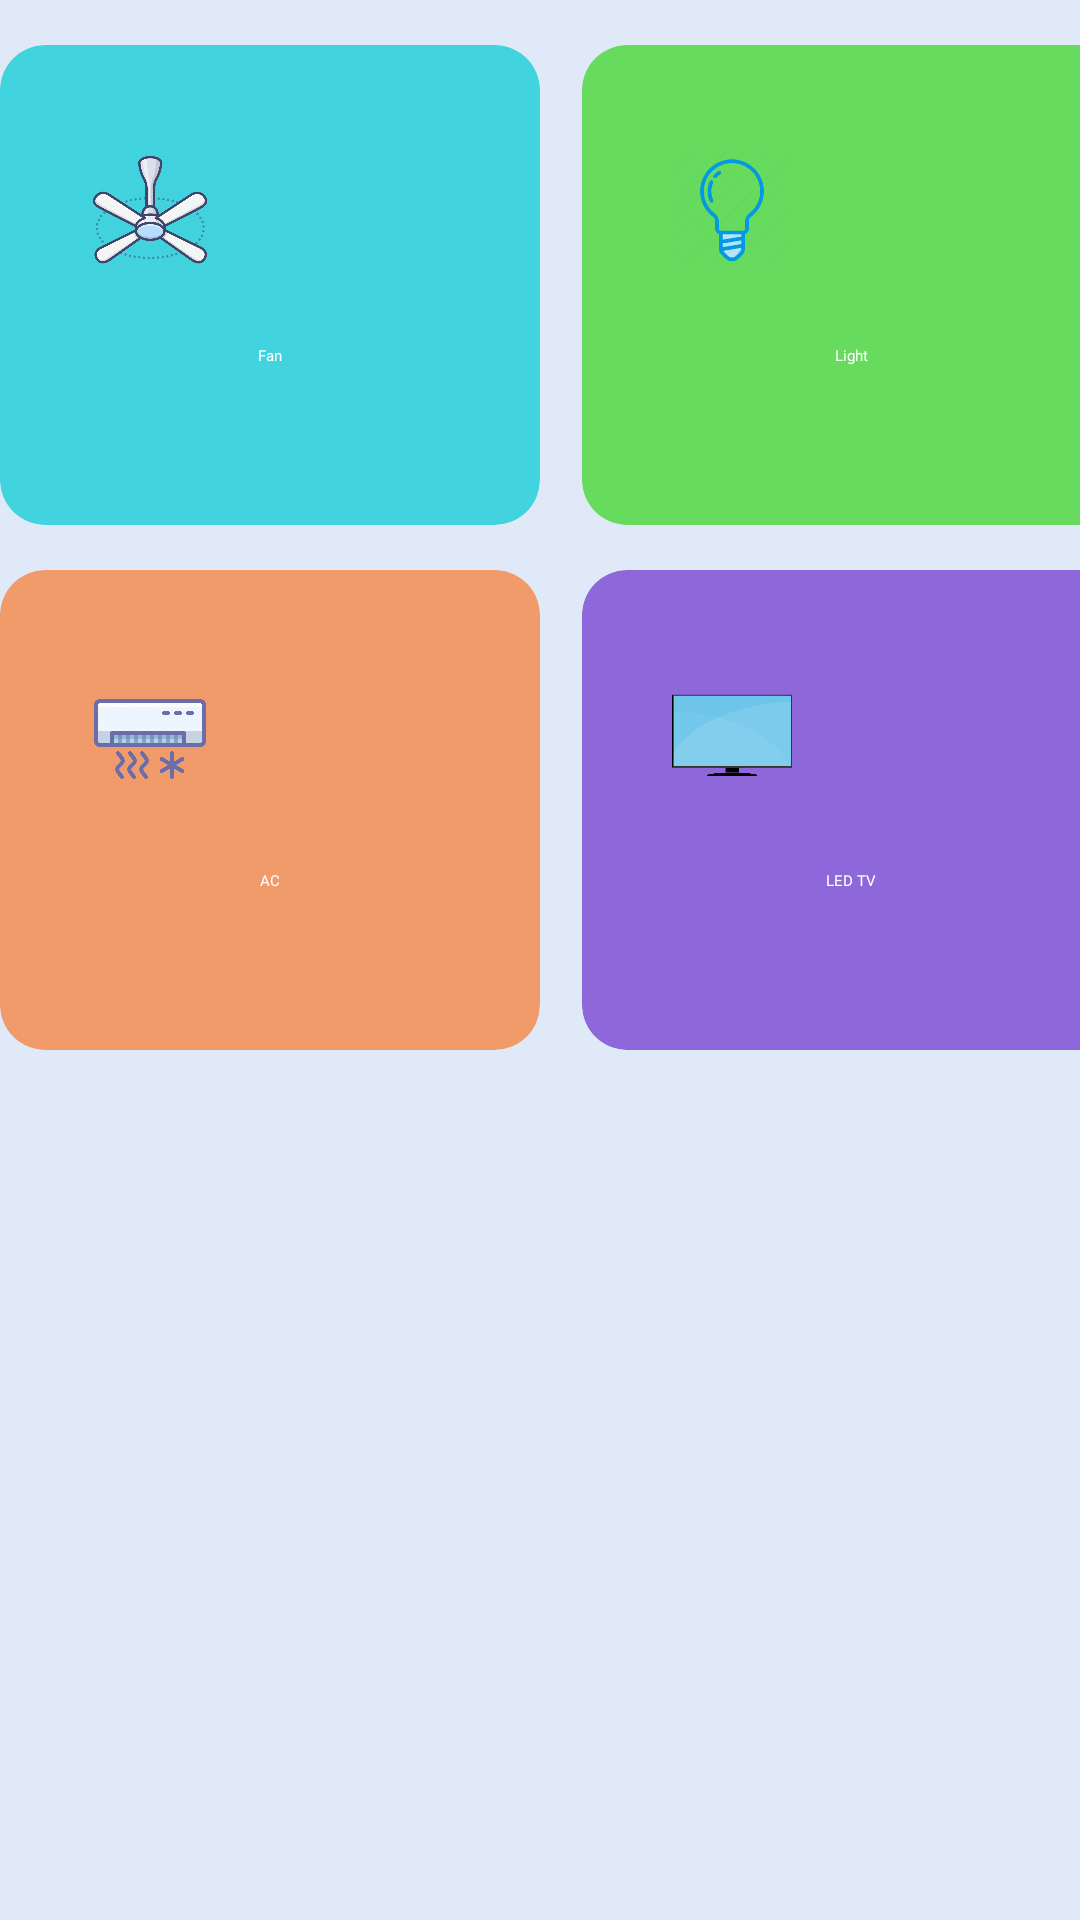

Named icons in this screenshot (1080x1920) and their bounding boxes, box=[x1, y1, x2, y2]:
airconditioner: box=[94, 699, 206, 779]
